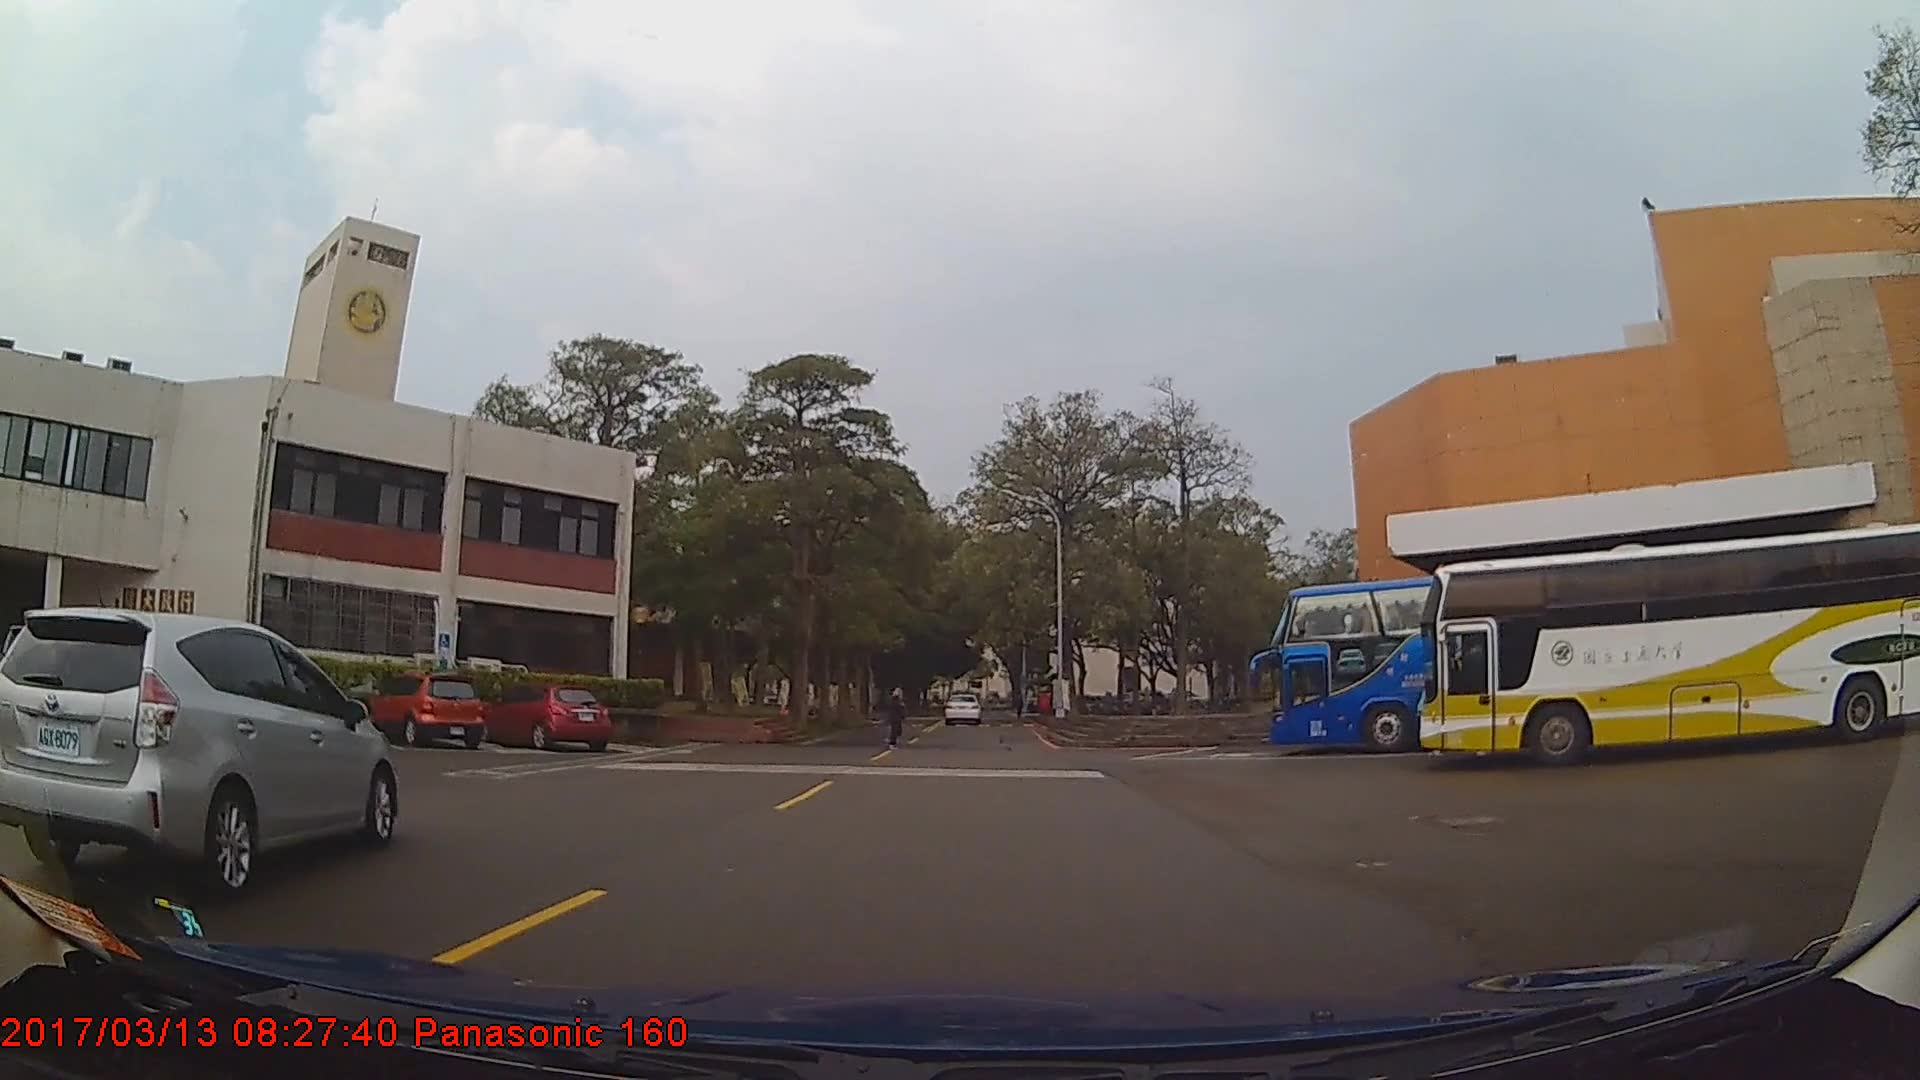pedestrian: (884, 684, 907, 749)
vehicle: (1418, 521, 1920, 769), (0, 604, 400, 893), (1268, 564, 1858, 754), (479, 681, 614, 753), (369, 673, 483, 748), (944, 693, 981, 726)
